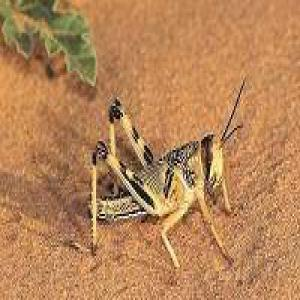locust: (82, 92, 252, 251)
